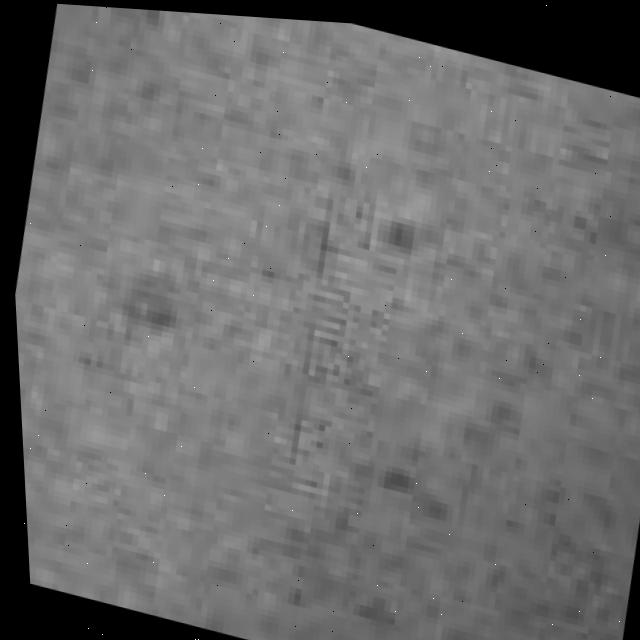Melasma: (51, 80, 604, 640)
